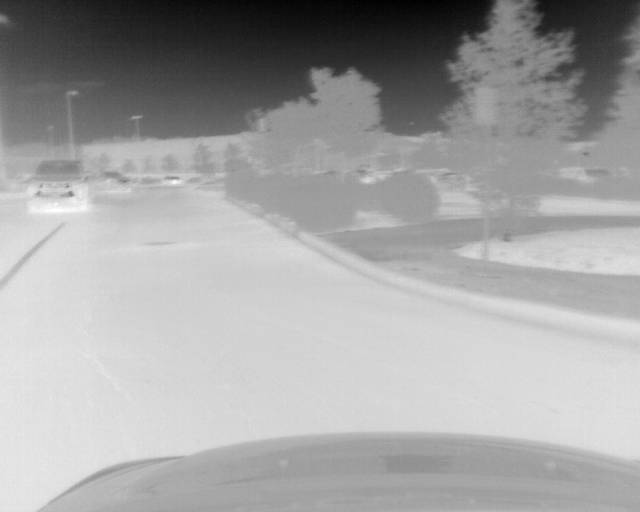car: (27, 159, 89, 212), (93, 169, 131, 191)
